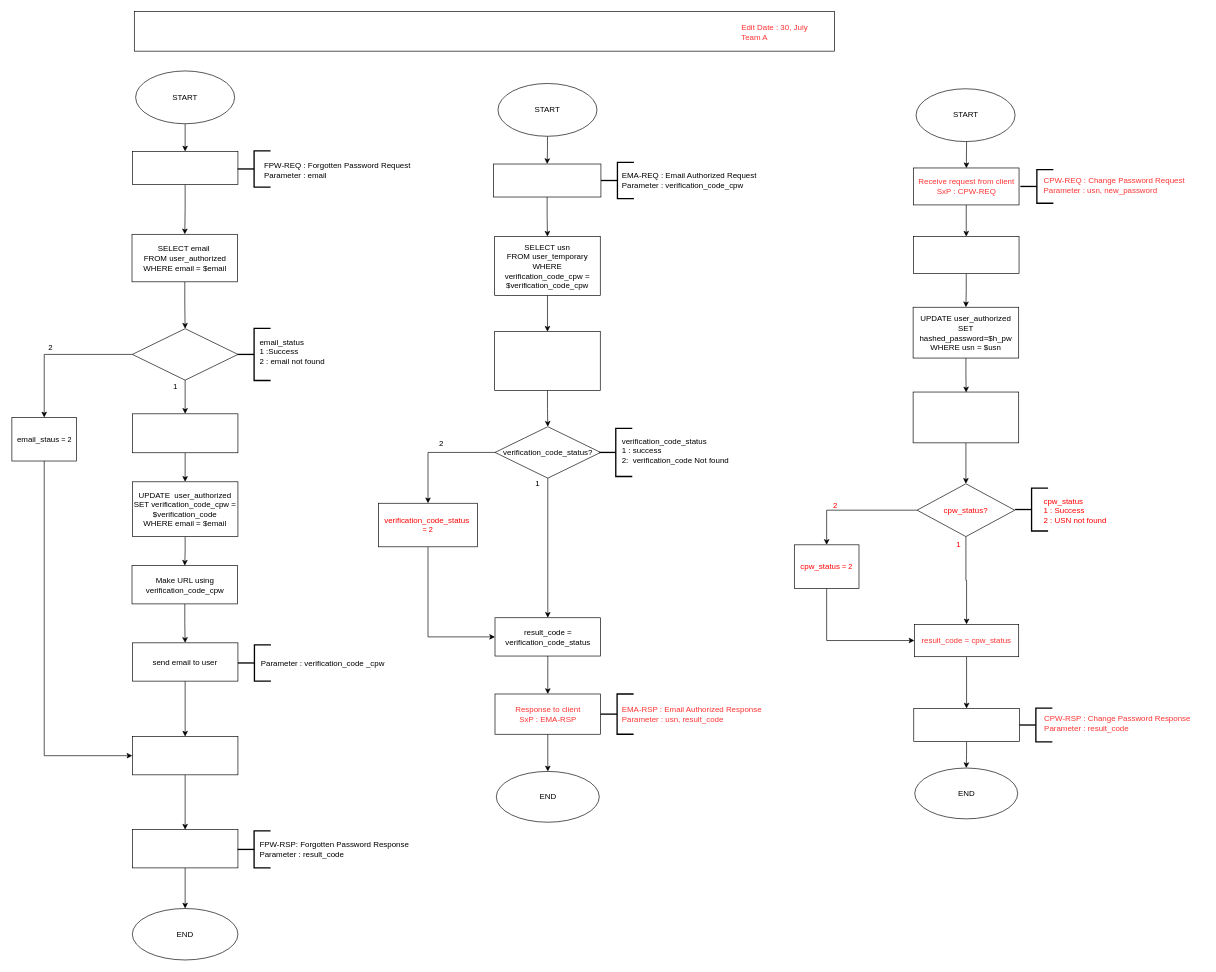
Image size: 1216x972. Some labels were removed from this diagram. The shapes that lost their labels are listed below. From the top down, each one's box as (x1, y1, x2, y2) in pixels, then its label:
(134, 11, 835, 51): Forgotten Password Flowchart in server part
(132, 151, 238, 184): Receive request from client *SxP : FPW-REQ
(493, 163, 601, 197): Receive request from client SxP : EMA-REQ
(913, 236, 1019, 274): hashed new_password using function password_hashed($pw)
(132, 328, 238, 380): email_status?
(494, 331, 600, 390): verification_code_status = get_usn_using_authCode()
(132, 413, 238, 453): Create verification_code_cpw using md5 encryption
(912, 391, 1019, 443): cpw_status = change_password()
(913, 708, 1019, 742): Response to client SxP : CPW-RSP
(132, 736, 238, 775): result_code = email_status
(132, 829, 238, 868): Response to client SxP : FPW-RSP
